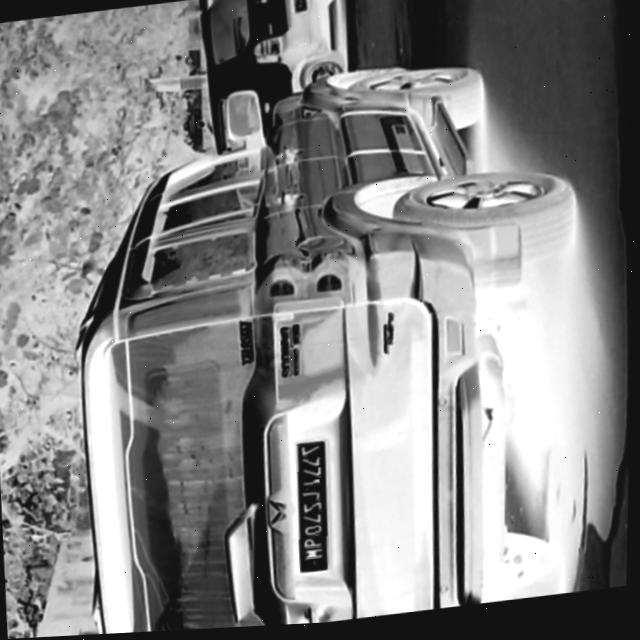0: (305, 527, 326, 539)
1: (305, 481, 323, 490)
7: (302, 469, 325, 481), (302, 457, 323, 470), (301, 446, 323, 458), (305, 516, 326, 527)
IND: (305, 560, 325, 572)
Indian_registered: (300, 445, 331, 573)
J: (303, 492, 325, 504)
M: (306, 550, 327, 561)
P: (306, 539, 327, 550)
Z: (303, 504, 324, 516)
